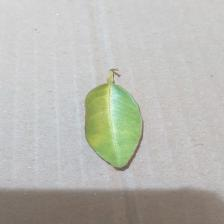greening: (77, 64, 152, 174)
